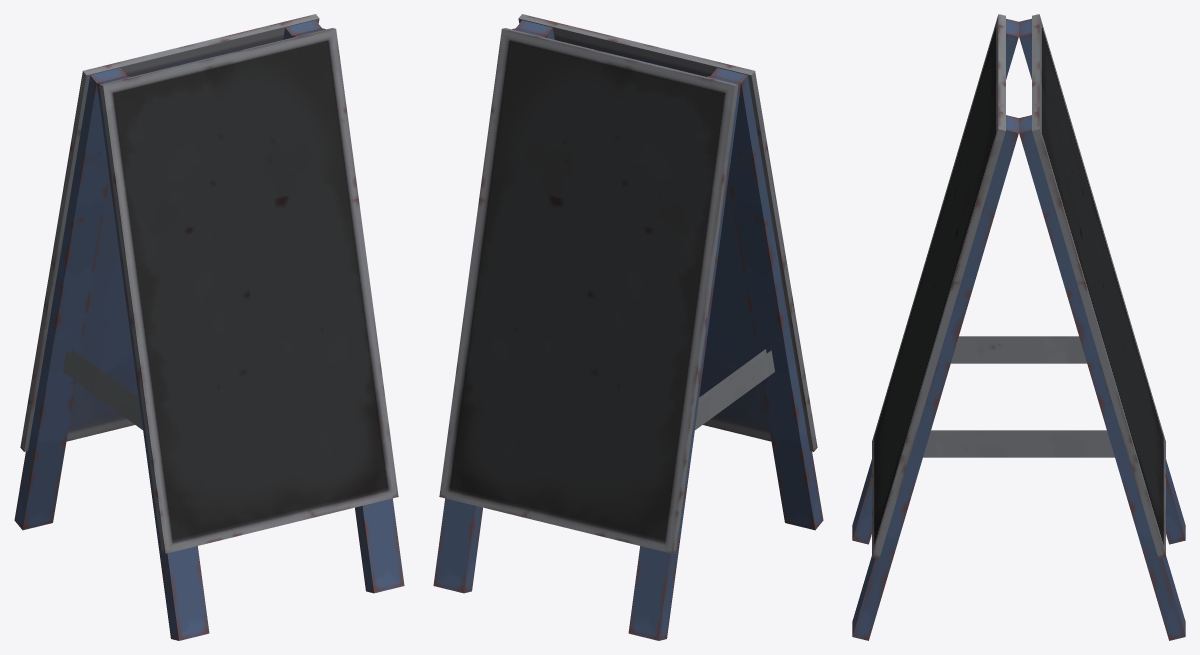
File: Board1_LOD1.fbx
3 renders of one model, left to right at view 1: azimuth 30°, elevation 25°; view 2: azimuth 150°, elevation 25°; view 3: azimuth 270°, elevation 25°, orthographic.
Visible parts, largest first — view 1: polySurface1214; view 2: polySurface1214; view 3: polySurface1214.
Part boxes in pixels (bbox=[...]): polySurface1214: bbox=[14, 14, 404, 640]; polySurface1214: bbox=[433, 14, 823, 640]; polySurface1214: bbox=[852, 14, 1185, 640].
Bounding box in the file's own units: 62.95 × 131 × 77.04.
